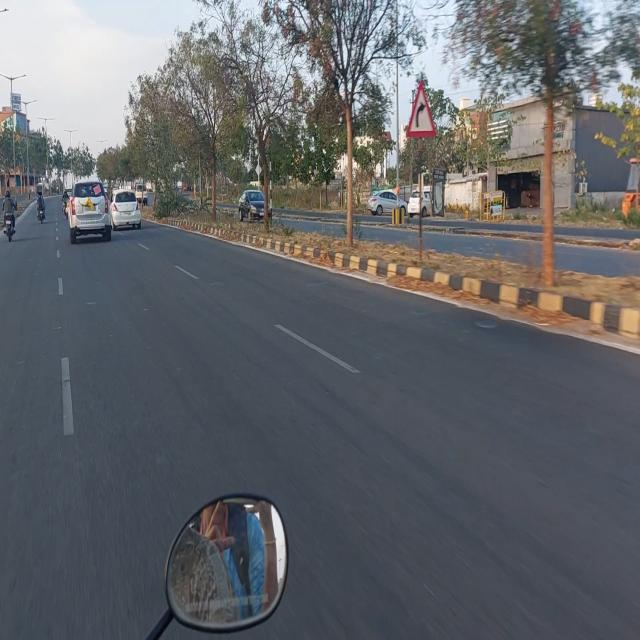bien_cam: (403, 74, 437, 139)
